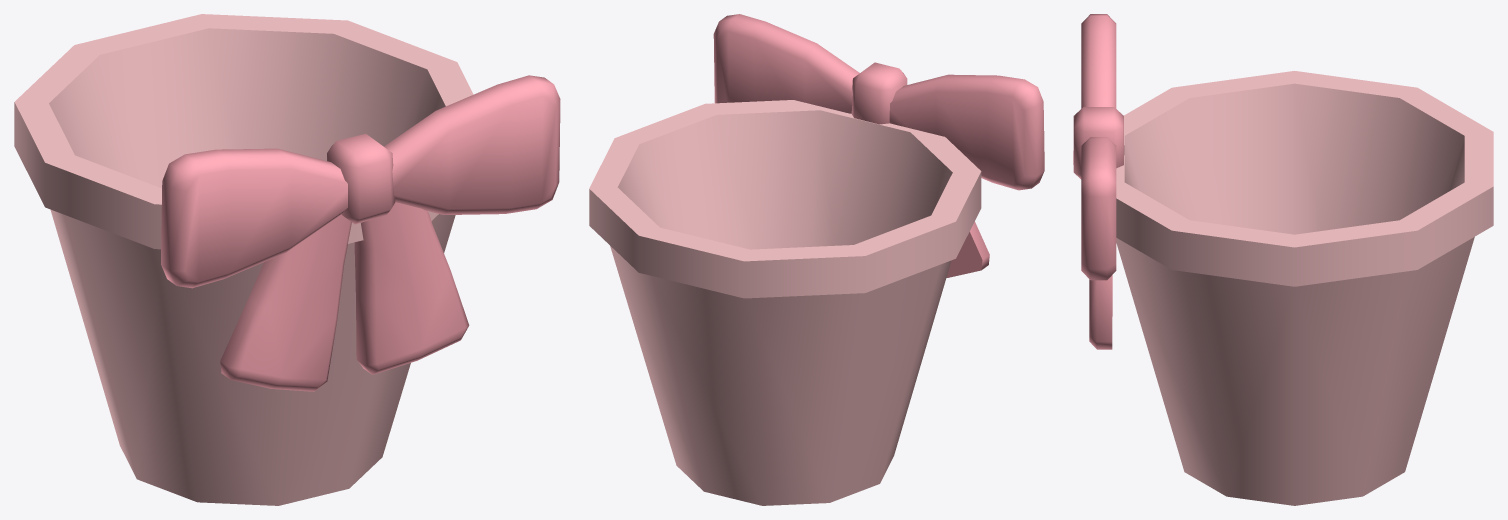
The model's file is pot_K.fbx.
The picture shows the model from 3 angles, left to right: view 1: azimuth 30°, elevation 25°; view 2: azimuth 150°, elevation 25°; view 3: azimuth 270°, elevation 25°; orthographic projection. The views are drawn at different scales.
Visible parts, largest first — view 1: Pot_01, polySurface9.001; view 2: Pot_01, polySurface9.001; view 3: Pot_01, polySurface9.001.
Boxes of the visible parts, x1,y1,x2,y2 form: Pot_01: (14, 14, 473, 505); polySurface9.001: (161, 75, 560, 391); Pot_01: (589, 100, 981, 505); polySurface9.001: (713, 14, 1044, 277); Pot_01: (1116, 71, 1493, 505); polySurface9.001: (1073, 14, 1124, 349).
Bounding box in the file's own units: 35.17 × 34.03 × 35.34.
